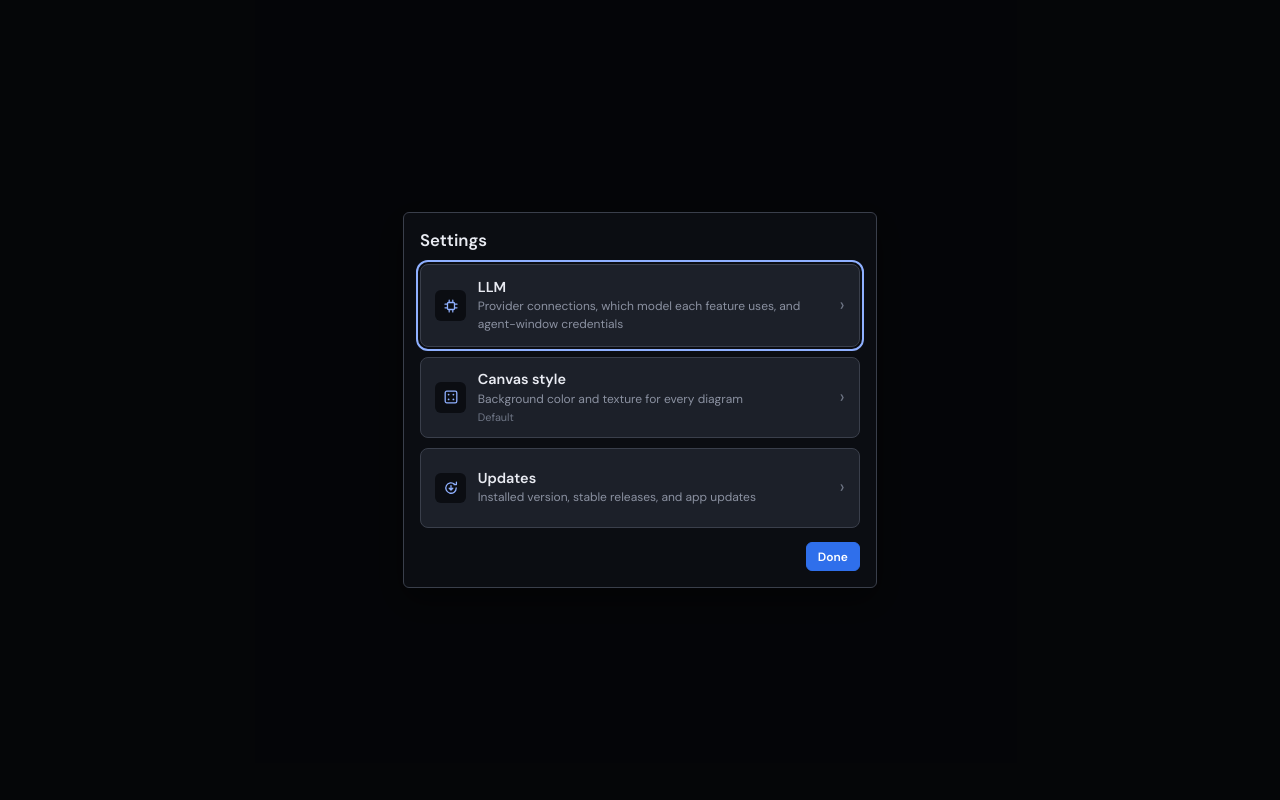
Scenario: SettingsDialog › swaps itself for the tabbed LLM dialog
This screenshot has width=1280, height=800.
Click the button with test id "settings-open-llm": (640, 306) [420, 264, 860, 347]
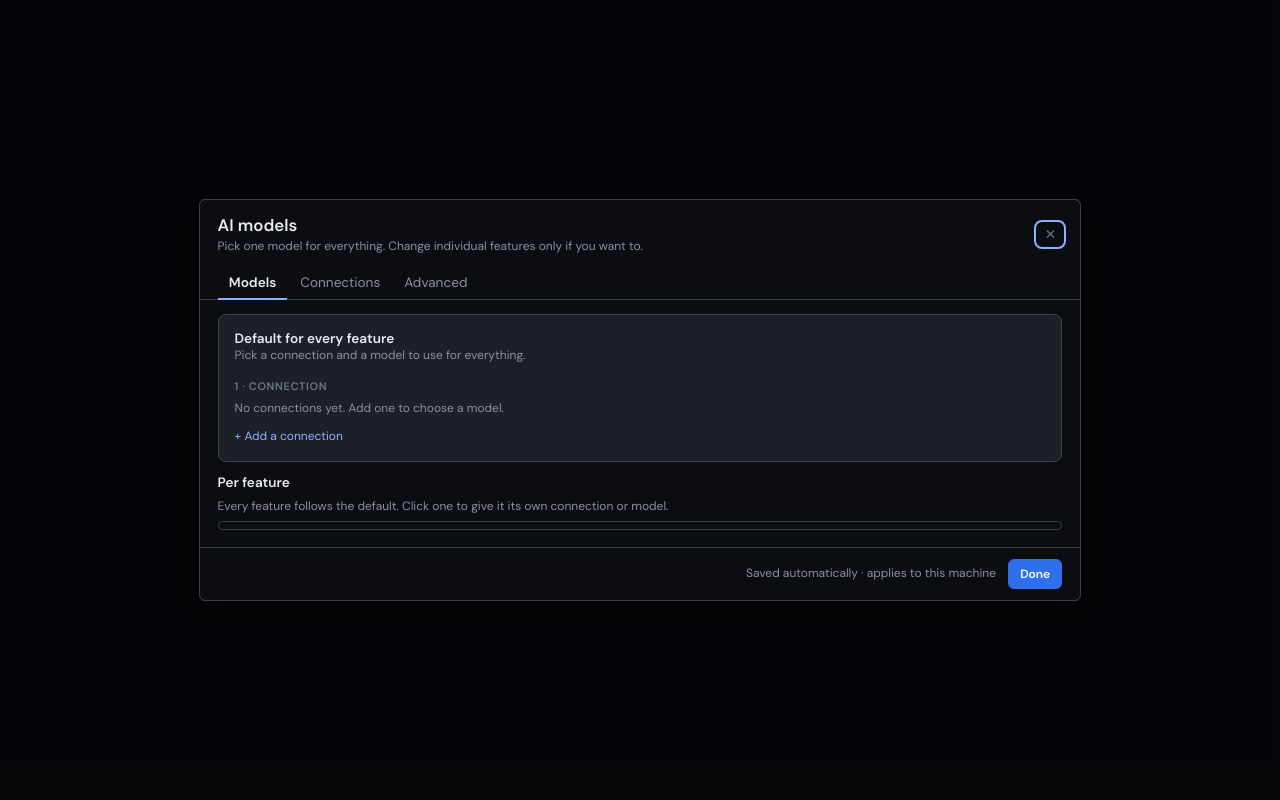
Result: the element with test id "llm-settings-panel" that starts with "AI models" is shown
Result: the button with test id "settings-open-llm" is gone
